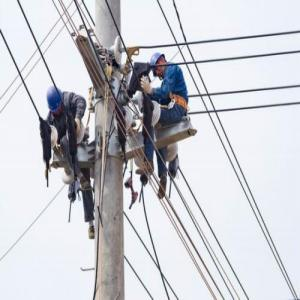blue: (47, 85, 64, 116), (150, 53, 167, 79)
